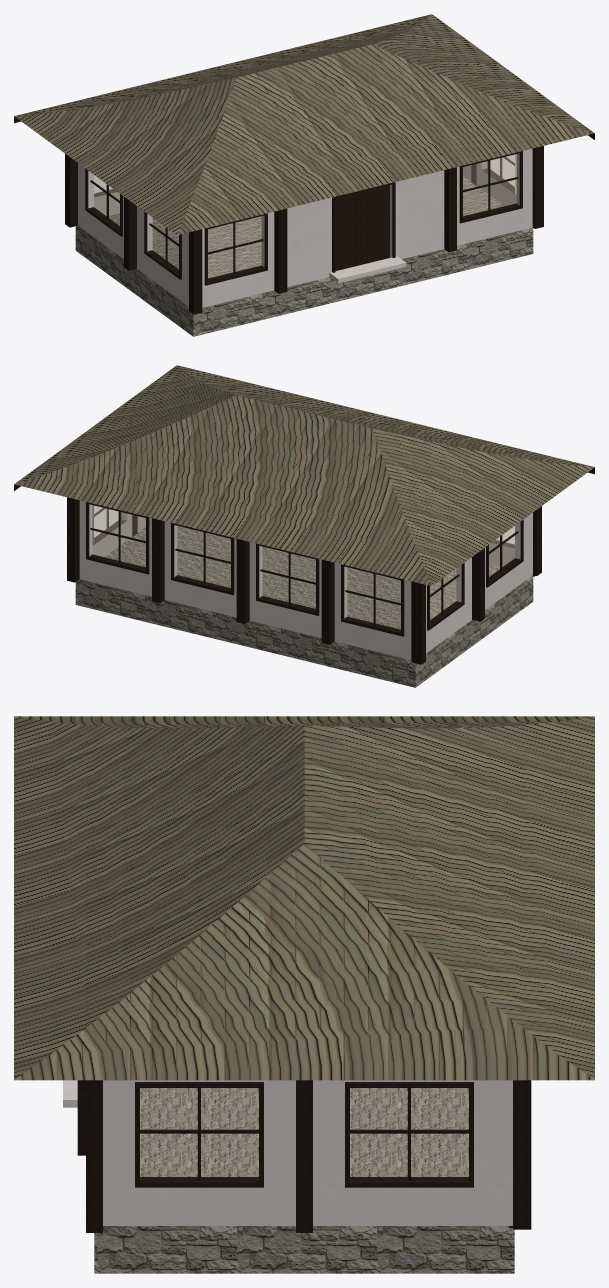
File: hanok_01.glb
3 renders of one model, top to bottom at view 1: azimuth 30°, elevation 25°; view 2: azimuth 150°, elevation 25°; view 3: azimuth 270°, elevation 25°, orthographic. The views are drawn at different scales.
Visible parts, largest first — view 1: hanok_01; view 2: hanok_01; view 3: hanok_01.
Boxes of the visible parts, left/top/right/bottom form: hanok_01: left=14, top=14, right=594, bottom=336; hanok_01: left=14, top=365, right=594, bottom=687; hanok_01: left=14, top=716, right=594, bottom=1273.
Bounding box in the file's own units: 12.3 × 5.38 × 8.3.
6 materials, 5 textured.
